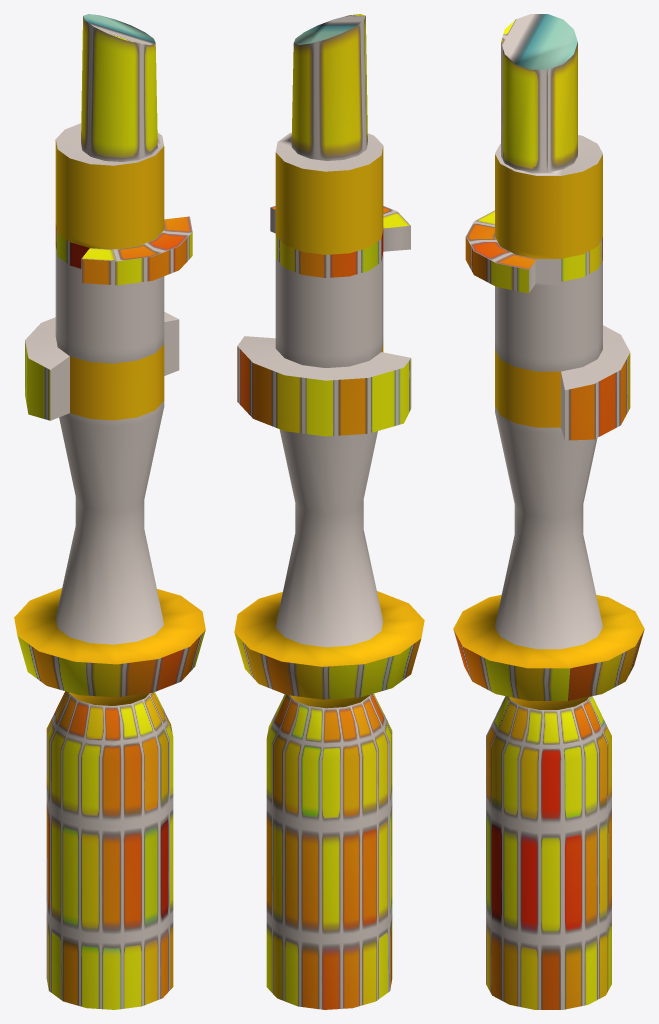
Rendered from Tall_B_7.fbx.
The picture shows the model from 3 angles, left to right: view 1: azimuth 30°, elevation 25°; view 2: azimuth 150°, elevation 25°; view 3: azimuth 270°, elevation 25°; orthographic projection.
Visible parts, largest first — view 1: Tall_B_7; view 2: Tall_B_7; view 3: Tall_B_7.
Part boxes in pixels (x1,y1,x2,y2): Tall_B_7: (14,14,205,1009); Tall_B_7: (234,14,424,1009); Tall_B_7: (453,14,644,1009).
Bounding box in the file's own units: 2497 × 14130 × 2561.
